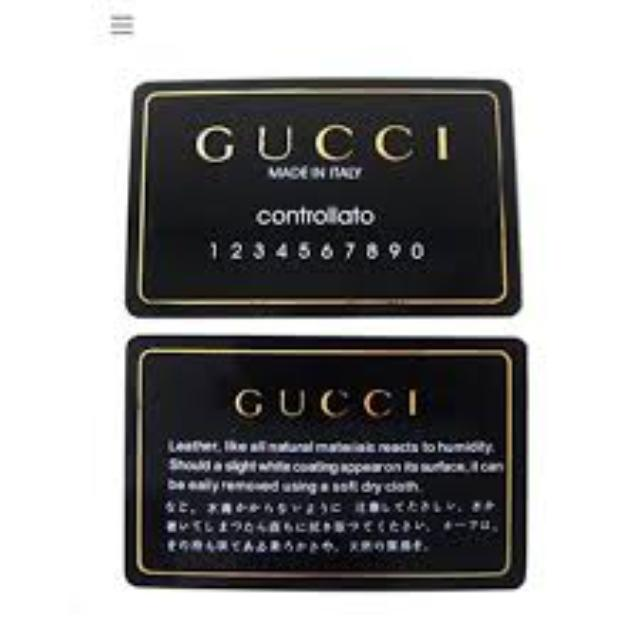Gucci: (180, 108, 460, 180), (232, 377, 423, 421)
